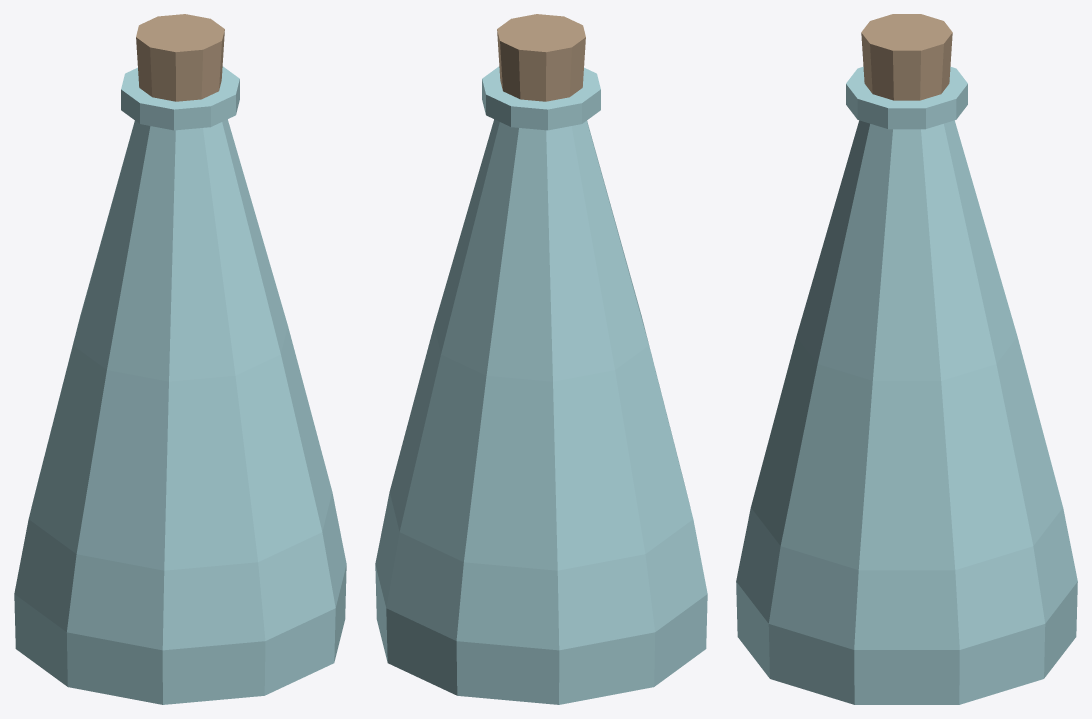
Rendered from Bottle_12.fbx.
The picture shows the model from 3 angles, left to right: view 1: azimuth 30°, elevation 25°; view 2: azimuth 150°, elevation 25°; view 3: azimuth 270°, elevation 25°; orthographic projection.
Visible parts, largest first — view 1: Bottle_12; view 2: Bottle_12; view 3: Bottle_12.
Part boxes in pixels (<box>): Bottle_12: <box>14,14,346,704</box>; Bottle_12: <box>375,14,707,704</box>; Bottle_12: <box>736,14,1077,704</box>.
Size of the model in its own units: 3.6 by 7.4 by 3.79.
